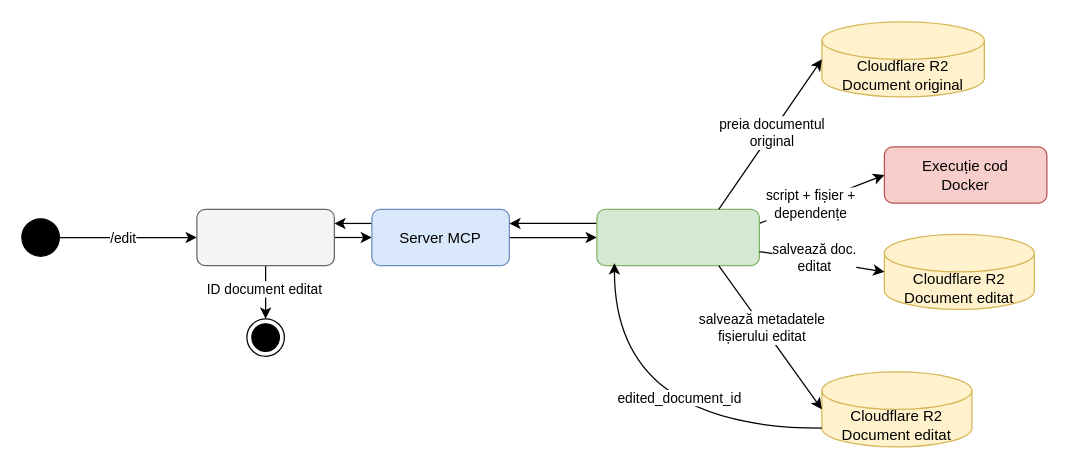
Image size: 1069x469. Some labels were removed from this diagram. Here are the shapes that lost their labels. From the top down, the centre of each, then its label:
At (265,237): "Server HTTP".
At (677,237): "Tool execute code and save".
